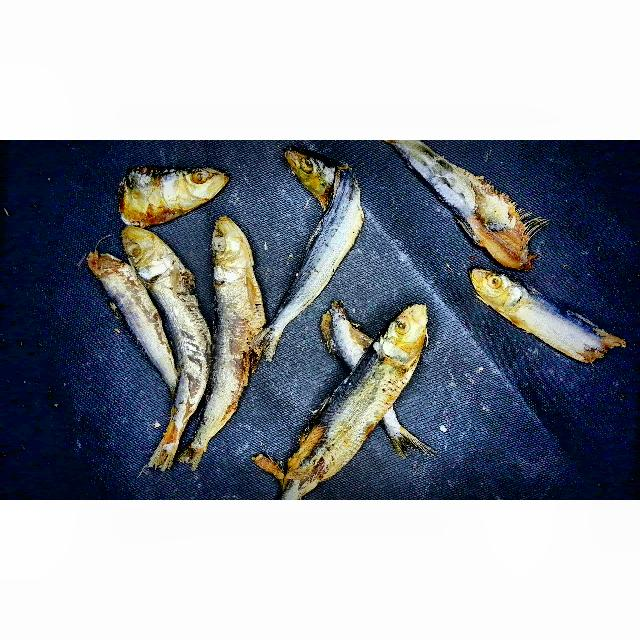Rejected_Body: (278, 345, 412, 492), (398, 148, 541, 269), (265, 186, 372, 313), (85, 247, 176, 385), (151, 265, 216, 433), (196, 278, 264, 436), (531, 287, 628, 377), (319, 298, 369, 364)
Rejected_Head: (111, 157, 230, 225), (367, 298, 441, 375), (203, 211, 262, 292), (462, 264, 537, 327), (118, 225, 192, 286), (274, 148, 345, 209)
Rejected_Tail: (377, 424, 443, 461), (144, 424, 183, 474), (255, 314, 287, 364), (180, 428, 213, 472)
